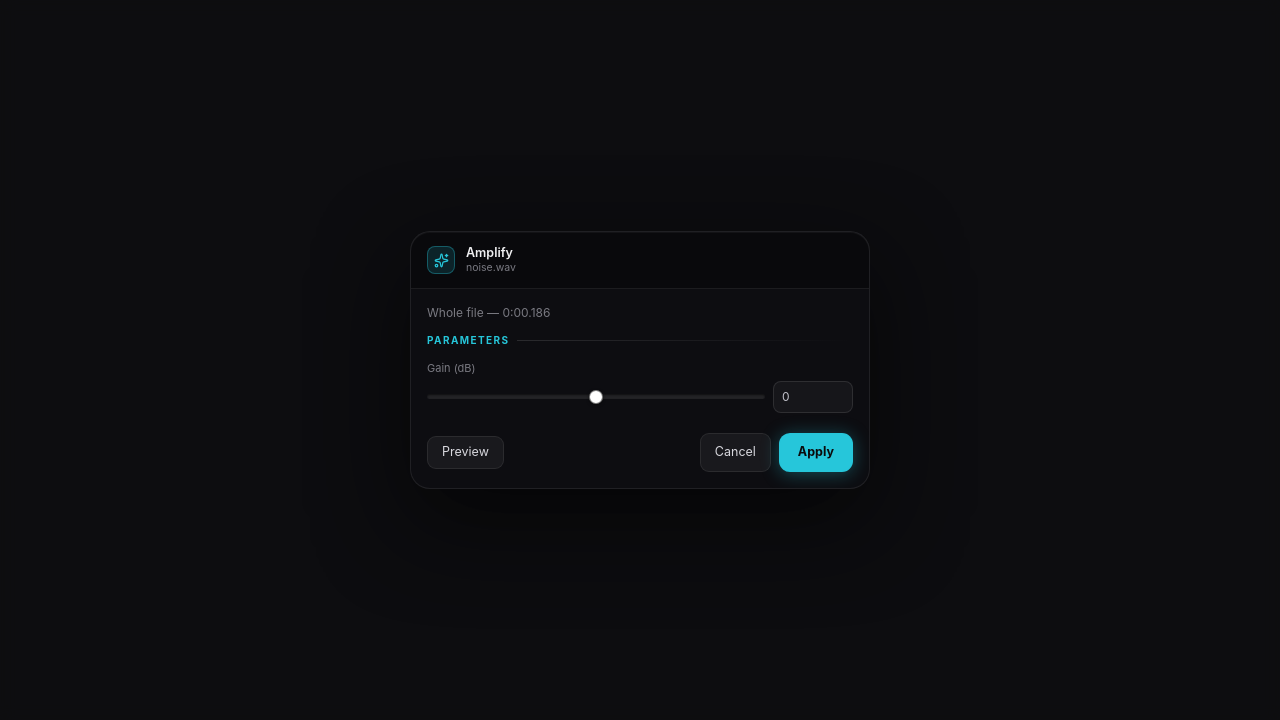
Test case: effect preview lifecycle (Task M7/F11) › Preview loads a NEW temp document into the engine and toggles to Stop Preview
Click the button "Preview". click: (465, 452)
box: [427,436,504,469]
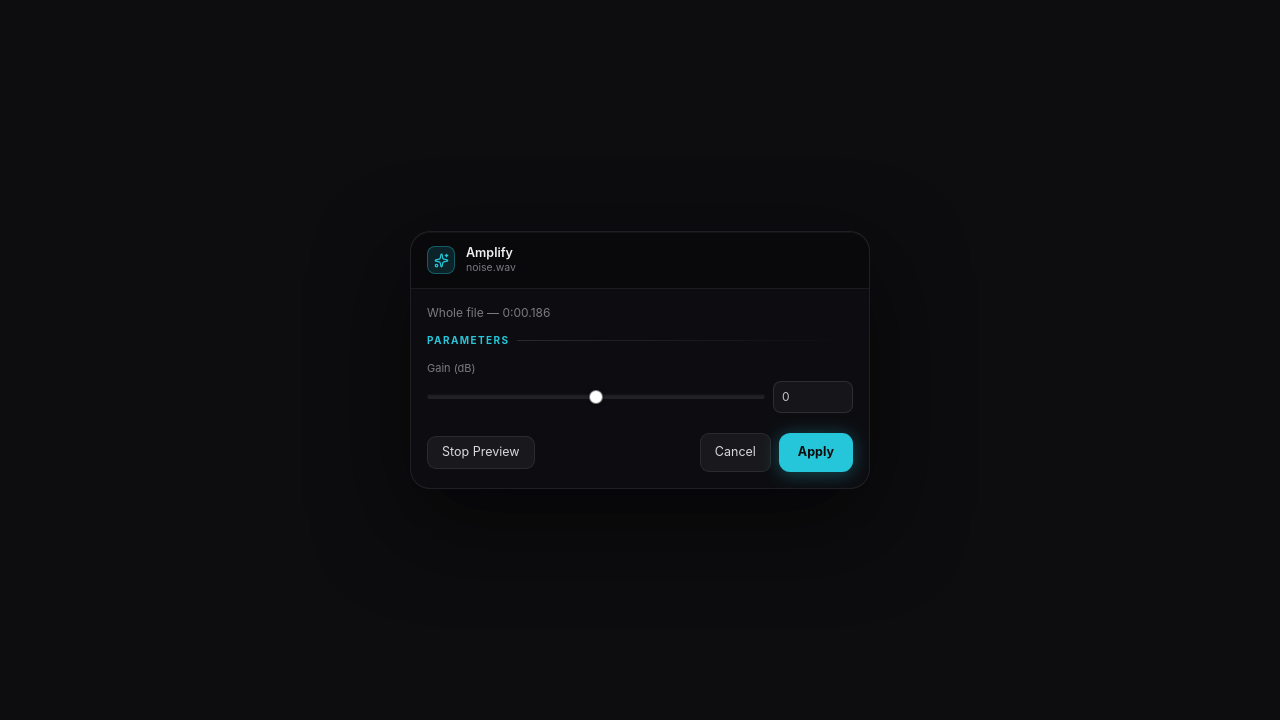
Check: the button "Stop Preview" is shown, box [427,436,534,469]
